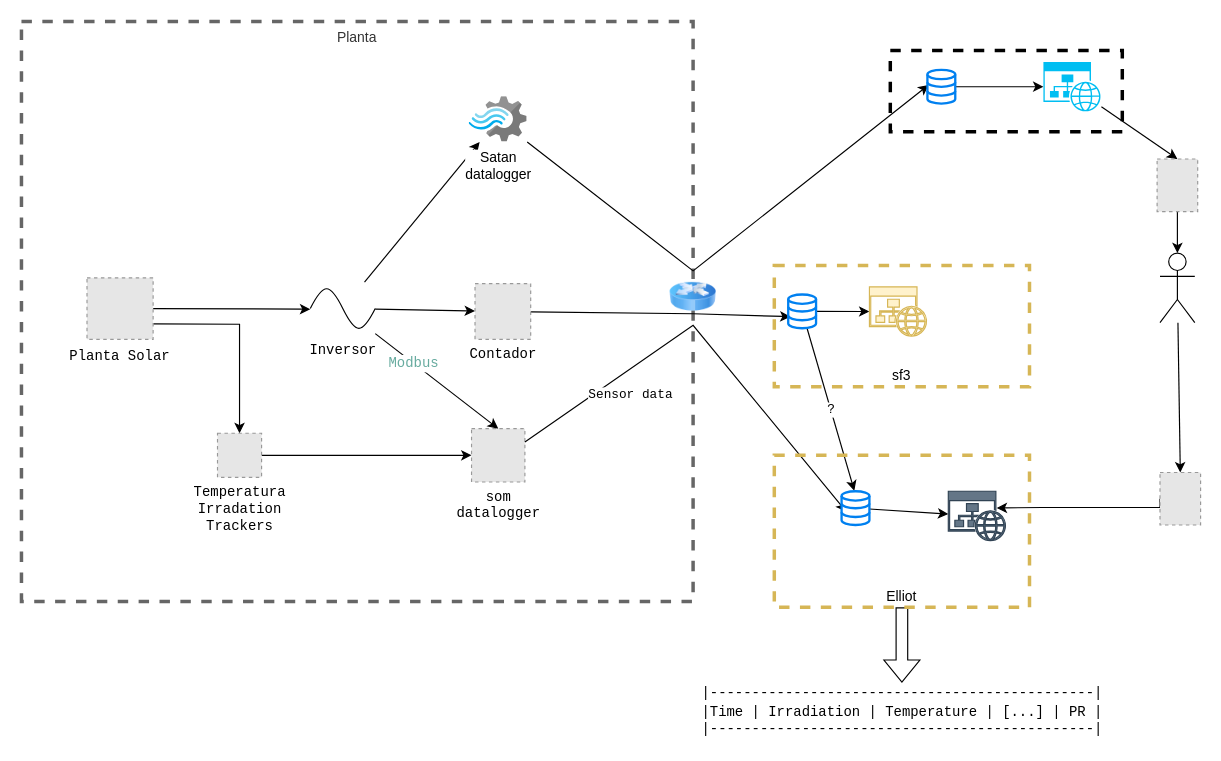
Image size: 1221x761. Some labels were removed from this diagram. Grey dashed boxes stand in for pictures. Each missing label, with the centre of its shape:
Actor: the point at 1177,287
ERP: the point at 897,311
Grafana: the point at 976,515
TimescaleDB (postgres): the point at 855,508
